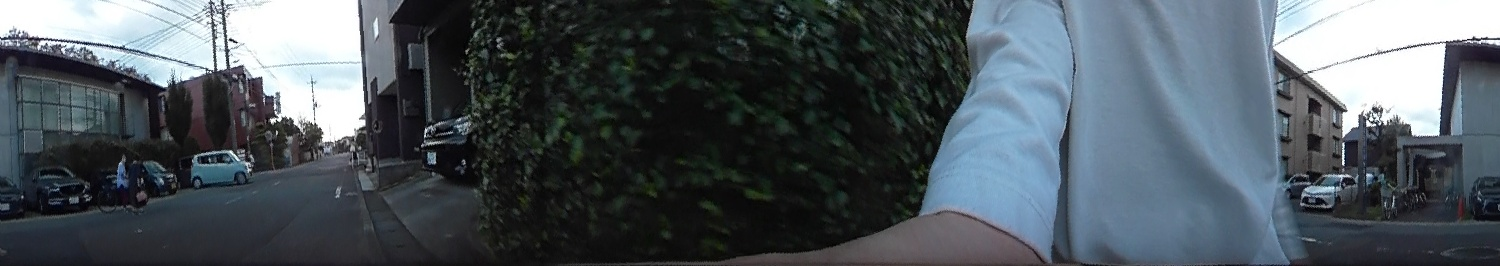difficult_person: (126, 155, 142, 210), (112, 152, 128, 206)
